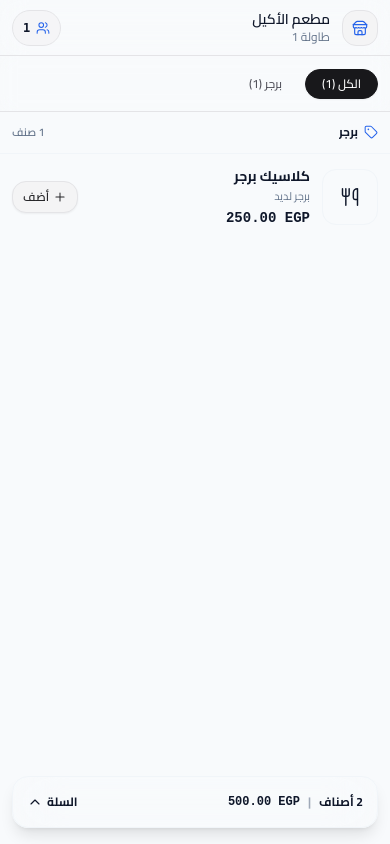
Test: PublicTableMenuPage Unit Tests (Mobile Dine-in UX) › opens slide-up cart drawer when clicking sticky bottom bar
Click the button named "عرض السلة / اطلب": x=338, y=802 [12, 776, 378, 828]
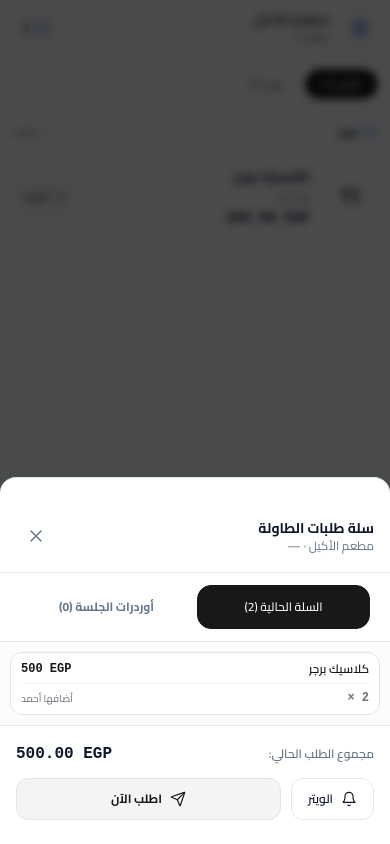
Check: the text "السلة الحالية (2)" is shown, box [244, 599, 322, 615]
Check: the text "أضافها أحمد" is shown, box [21, 690, 73, 706]
